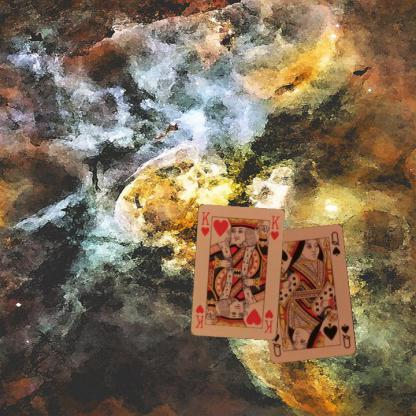Kh: (198, 209, 212, 238), (262, 307, 274, 334)
Qs: (338, 322, 352, 349)
